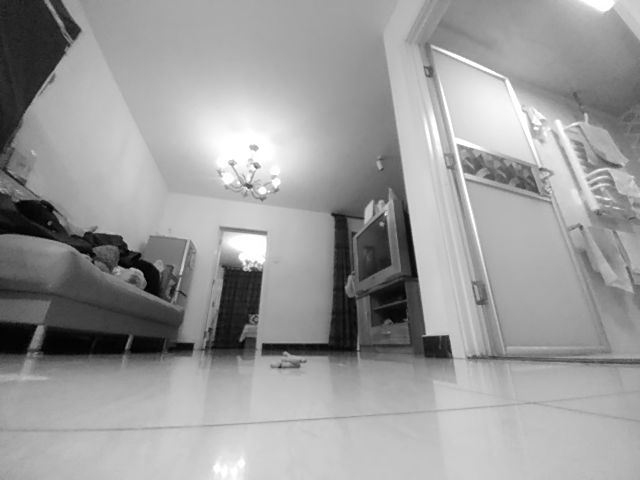curtain: (212, 265, 264, 349), (329, 213, 358, 355)
pet feces: (270, 350, 307, 369)
